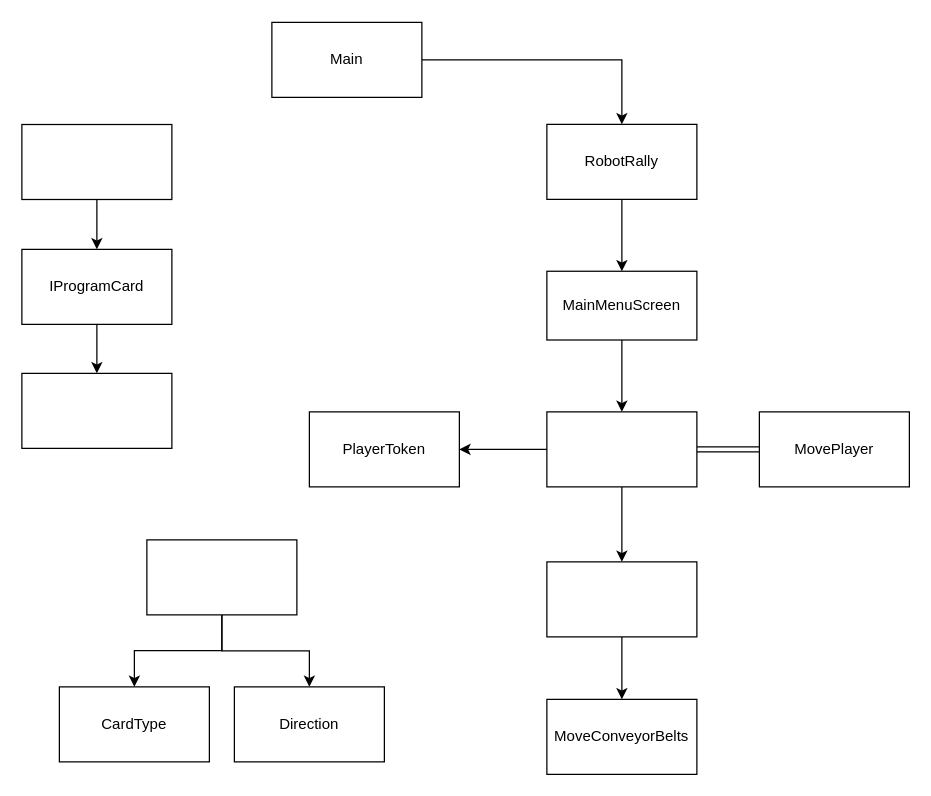
This 931x796 diagram has some shape labels left out. The centre of each missing label's shape, as x and y in pixels:
Board: the point at 621,449
Enums: the point at 221,577
IBoardFeature: the point at 621,599
ProgramCard: the point at 96,410
ProgramCardDeck: the point at 96,161
